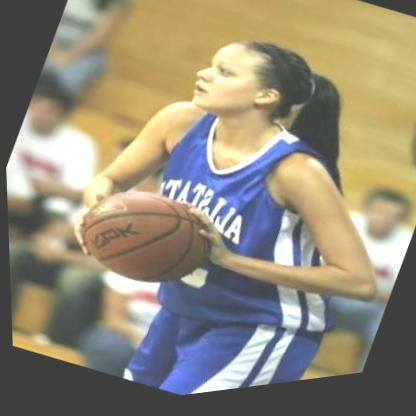basketball: (52, 160, 230, 324)
